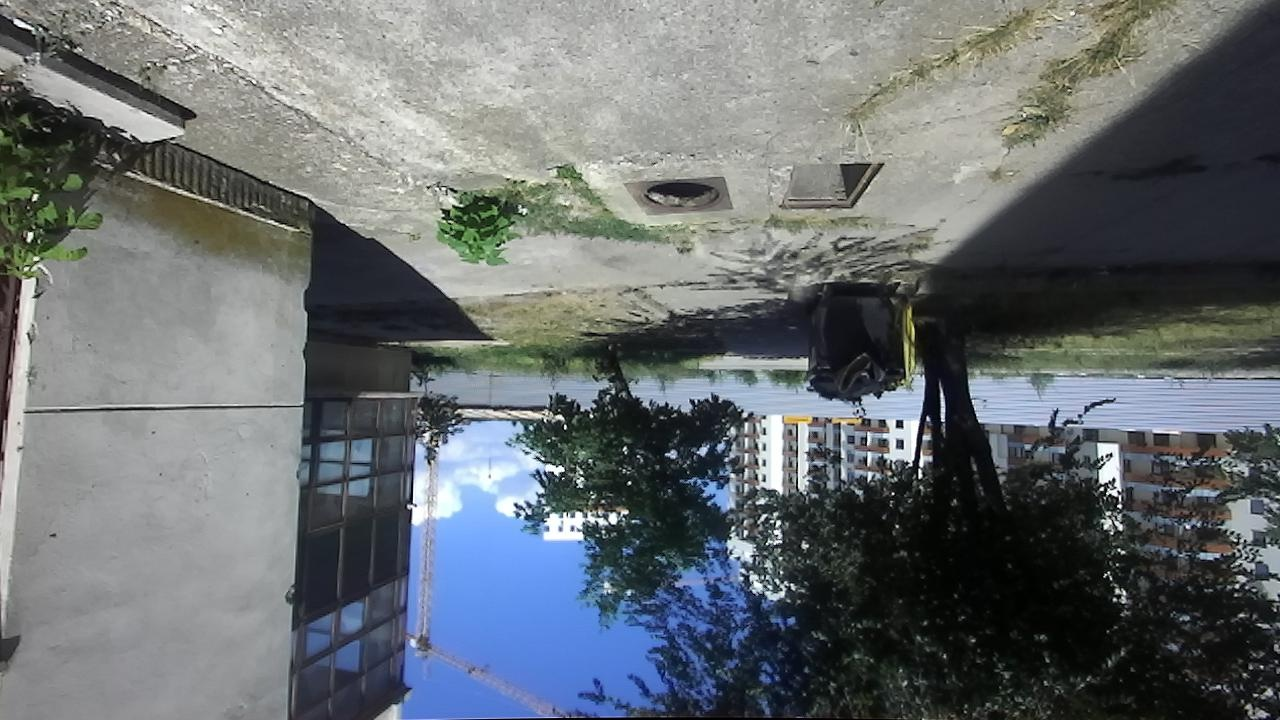drain: (776, 158, 889, 214), (638, 179, 726, 212)
